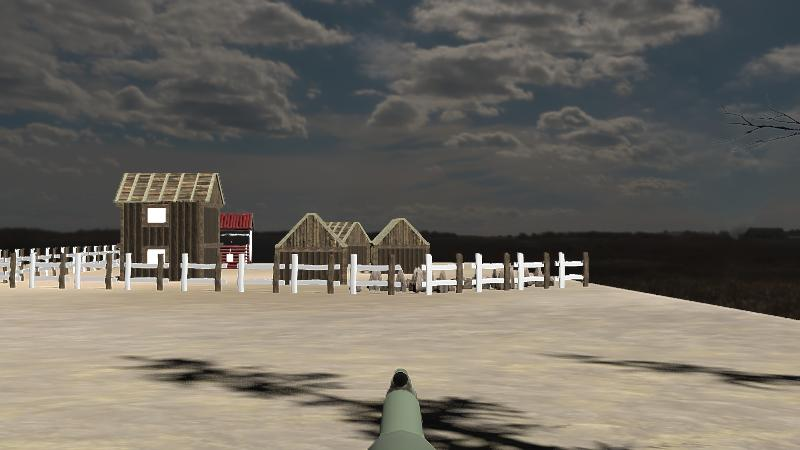House: (114, 171, 224, 279), (274, 214, 343, 285), (371, 218, 431, 285), (372, 218, 430, 284), (331, 221, 373, 287)
